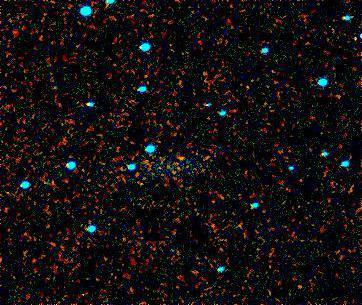star: (166, 144, 196, 174)
